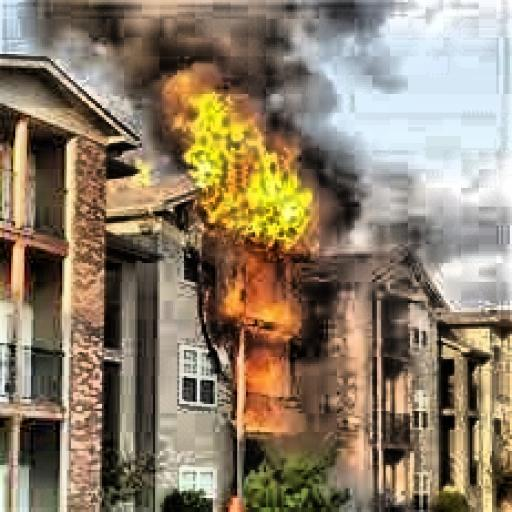fire: (164, 68, 348, 254), (198, 237, 332, 437)
